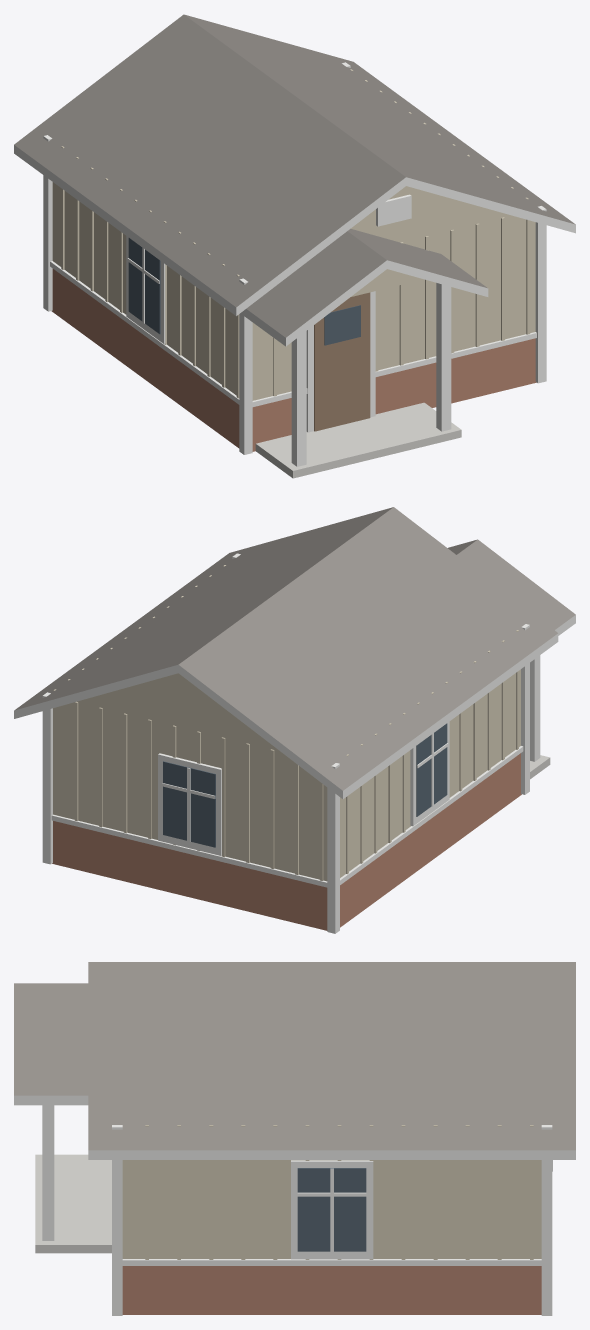
File: lathrop-craftsman.glb
3 views of the same model, one above another, from view 1: azimuth 30°, elevation 25°; view 2: azimuth 150°, elevation 25°; view 3: azimuth 270°, elevation 25° (orthographic). The views are drawn at different scales.
Visible parts, largest first — view 1: The Lathrop (craftsman); view 2: The Lathrop (craftsman); view 3: The Lathrop (craftsman).
Boxes of the visible parts, x1,y1,x2,y2 form: The Lathrop (craftsman): (14,14,575,478); The Lathrop (craftsman): (14,507,575,933); The Lathrop (craftsman): (14,962,575,1315).
Size of the model in its own units: 5.64 by 3.97 by 7.37.
